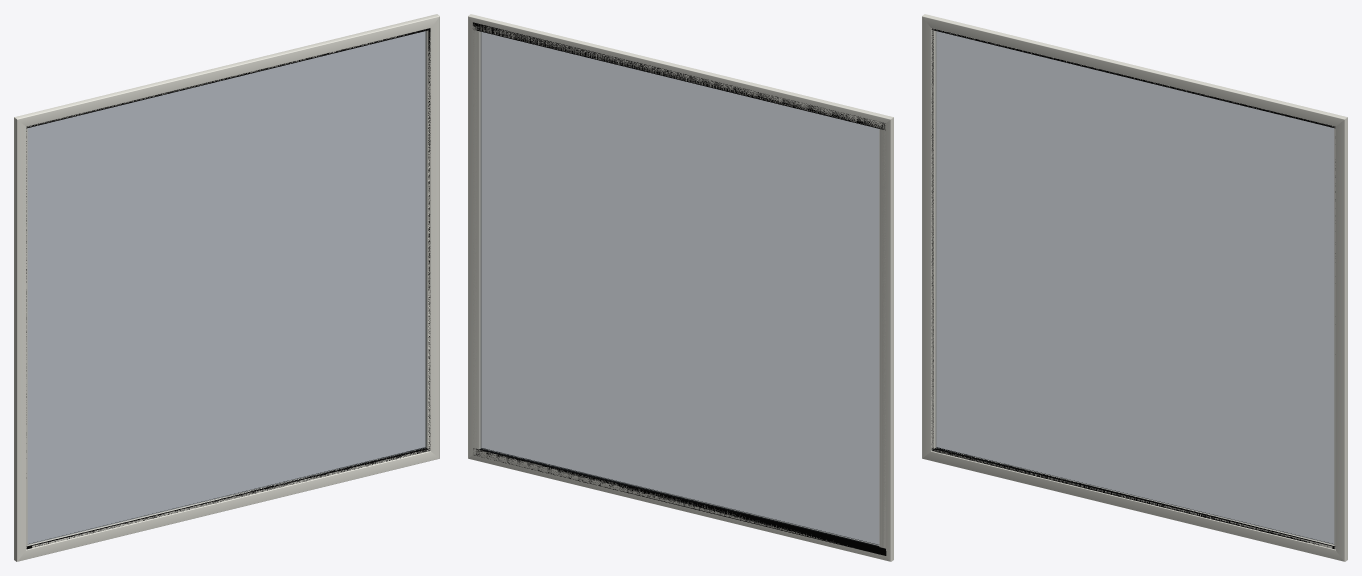
File: secondary-glazing.glb
The picture shows the model from 3 angles, left to right: view 1: azimuth 30°, elevation 25°; view 2: azimuth 150°, elevation 25°; view 3: azimuth 330°, elevation 25°; orthographic projection.
Visible parts, largest first — view 1: object 13, object 14, Frame (×4), Gasket 0 (×2), object 7, Bead, object 11; view 2: object 14, object 13, Frame (×4), Gasket 0 (×2), Bead (×2), object 7, object 11; view 3: object 13, object 14, Frame (×4), Gasket 0 (×3), object 11, Bead, object 7.
Part boxes in pixels (x1,y1,x2,y2): object 13: [28, 31, 426, 544]; object 14: [28, 32, 424, 543]; Frame (×4): [14, 14, 439, 561]; Gasket 0 (×2): [26, 28, 430, 549]; object 7: [425, 30, 430, 448]; Bead: [26, 447, 430, 549]; object 11: [26, 128, 27, 546]; object 14: [480, 32, 878, 546]; object 13: [481, 32, 878, 544]; Frame (×4): [468, 14, 893, 561]; Gasket 0 (×2): [473, 22, 886, 555]; Bead (×2): [472, 24, 885, 545]; object 7: [473, 30, 481, 449]; object 11: [879, 129, 885, 548]; object 13: [935, 31, 1333, 544]; object 14: [937, 32, 1333, 543]; Frame (×4): [922, 14, 1347, 561]; Gasket 0 (×3): [931, 28, 1335, 549]; object 11: [931, 30, 936, 448]; Bead: [931, 447, 1335, 549]; object 7: [1334, 128, 1335, 546].
Bounding box in the file's own units: 900 × 900 × 12.
